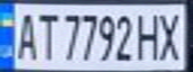2: (115, 10, 139, 62)
7: (57, 9, 81, 61), (78, 10, 100, 61)
9: (97, 10, 118, 62)
A: (9, 8, 39, 61)
H: (136, 9, 163, 61)
T: (33, 8, 60, 61)
X: (154, 8, 187, 61)
